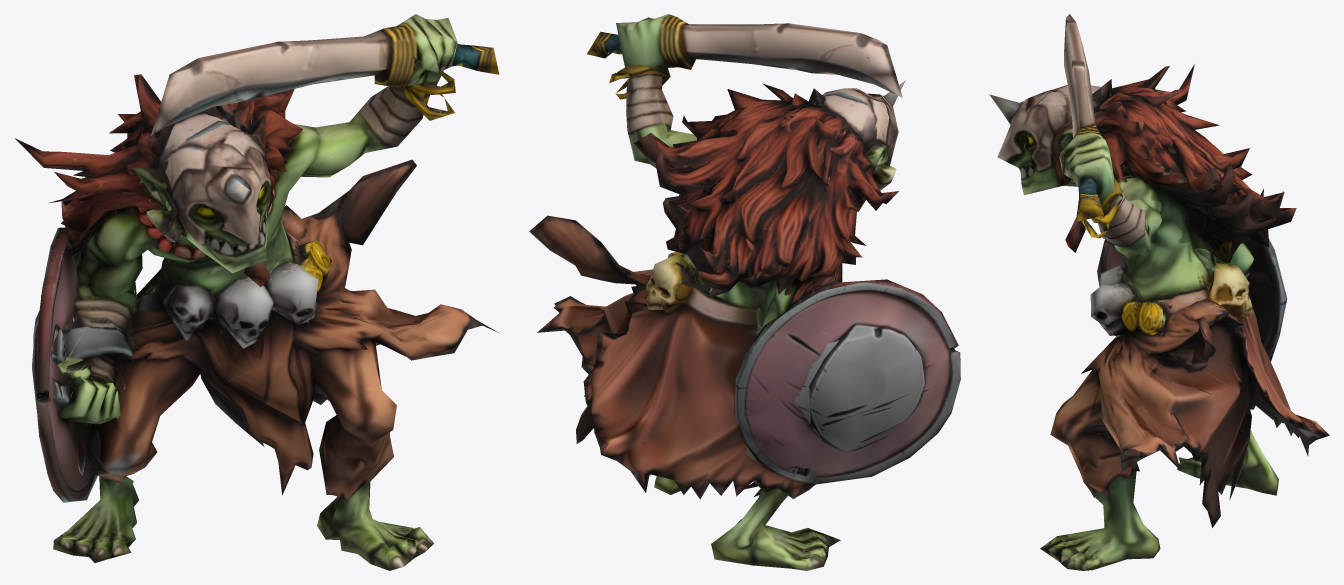
The model's file is goblinupdated.glb.
The picture shows the model from 3 angles, left to right: view 1: azimuth 30°, elevation 25°; view 2: azimuth 150°, elevation 25°; view 3: azimuth 270°, elevation 25°; orthographic projection. The views are drawn at different scales.
Visible parts, largest first — view 1: Mesh1.0; view 2: Mesh1.0; view 3: Mesh1.0.
Boxes of the visible parts, x1=… form: Mesh1.0: x1=15, y1=14, x2=499, y2=570; Mesh1.0: x1=529, y1=14, x2=960, y2=570; Mesh1.0: x1=989, y1=14, x2=1329, y2=570.
Size of the model in its own units: 1.73 by 1.91 by 1.29.
1 material, 1 textured.
